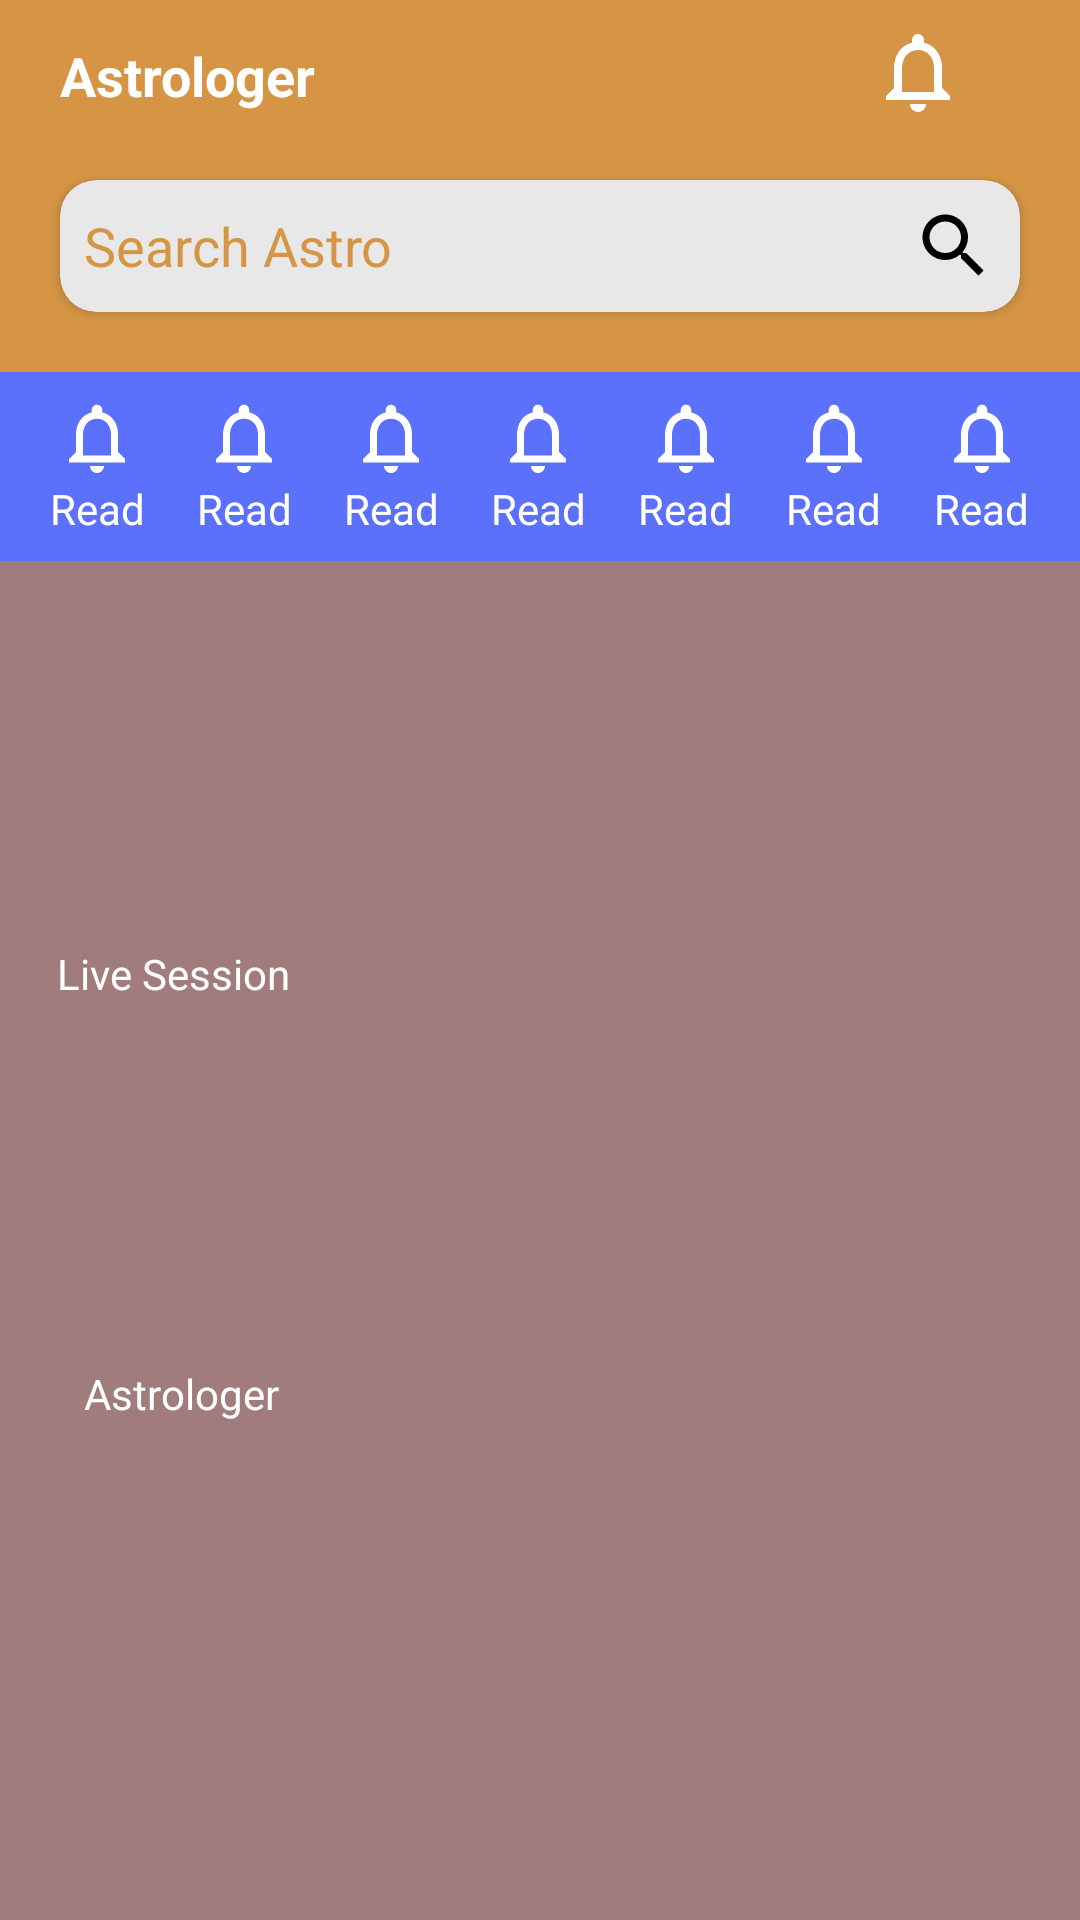

Named icons in this screenshot (1080w x 1920h) and their bounding boxes, region(x1, y1, x2, y2):
notifications none: region(886, 34, 950, 112), region(69, 404, 125, 473), region(216, 404, 272, 473), region(363, 404, 419, 473), region(510, 404, 566, 473), region(658, 404, 714, 473), region(806, 404, 862, 473), region(954, 404, 1010, 473)
